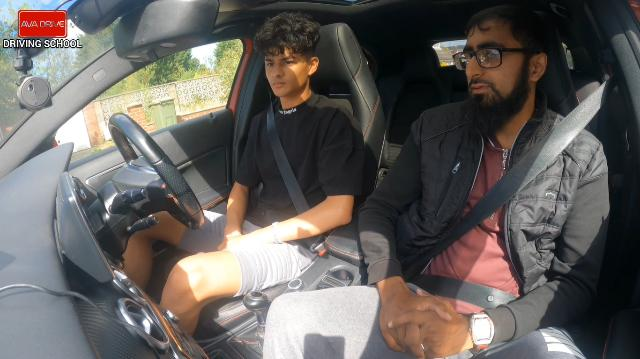seatbelt: (395, 85, 585, 297), (188, 72, 372, 271)
